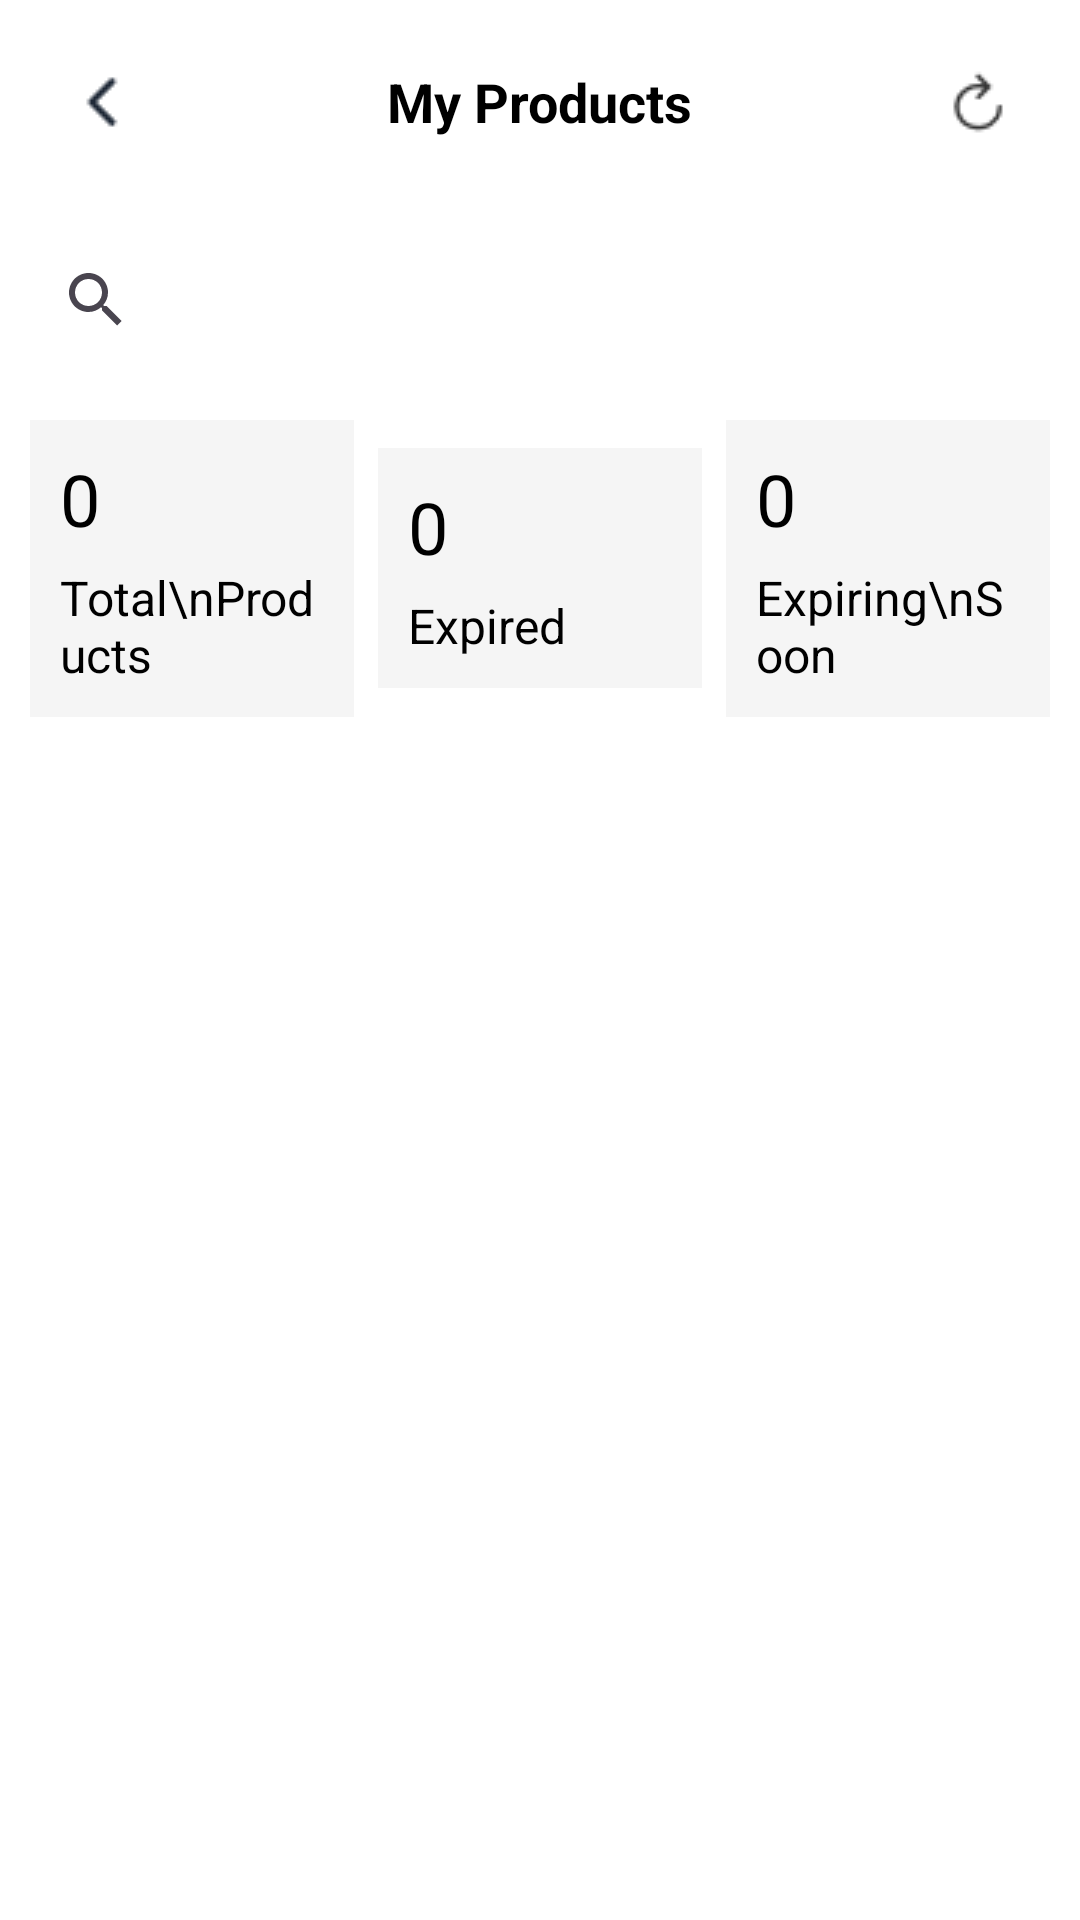

Where icons sit on this 1080×1920 app screen, as bbox=(x1, y1, x2, y2):
back: bbox=(86, 77, 118, 127)
refresh: bbox=(953, 73, 1003, 132)
